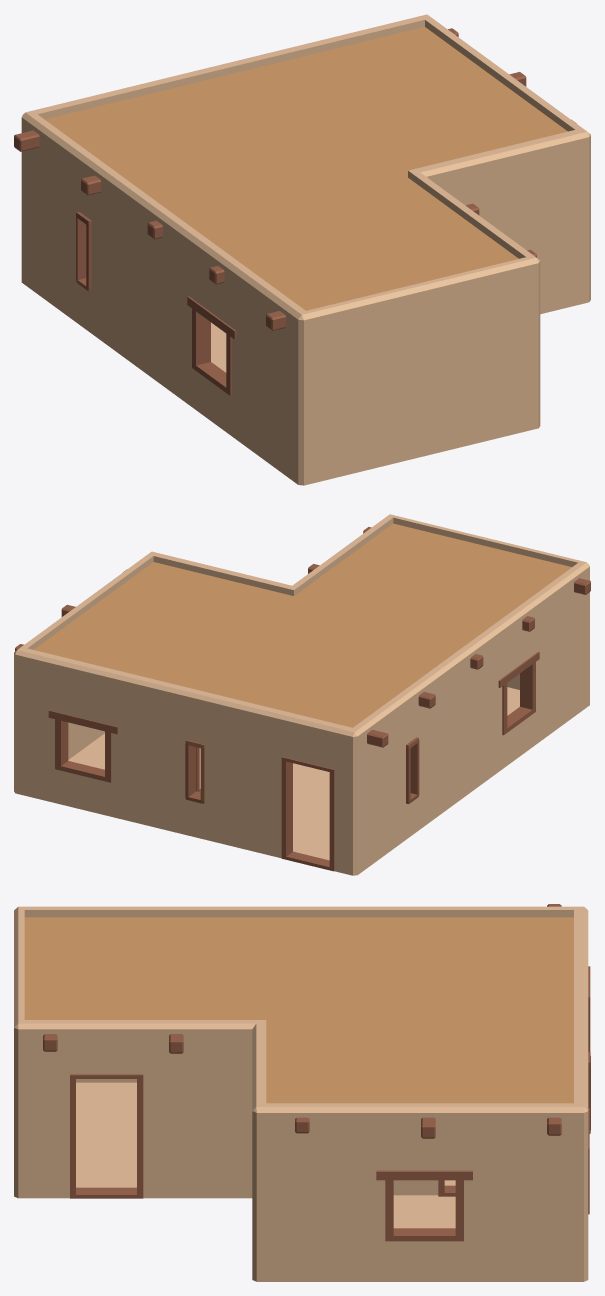
Rendered from Medium Building Frame A.glb.
The picture shows the model from 3 angles, top to bottom: view 1: azimuth 30°, elevation 25°; view 2: azimuth 150°, elevation 25°; view 3: azimuth 270°, elevation 25°; orthographic projection. The views are drawn at different scales.
Visible parts, largest first — view 1: Medium Building Frame A; view 2: Medium Building Frame A; view 3: Medium Building Frame A.
Part boxes in pixels (x1=…): Medium Building Frame A: x1=14, y1=14, x2=590, y2=485; Medium Building Frame A: x1=14, y1=514, x2=590, y2=875; Medium Building Frame A: x1=14, y1=904, x2=590, y2=1281.
Bounding box in the file's own units: 905 × 328 × 993.
